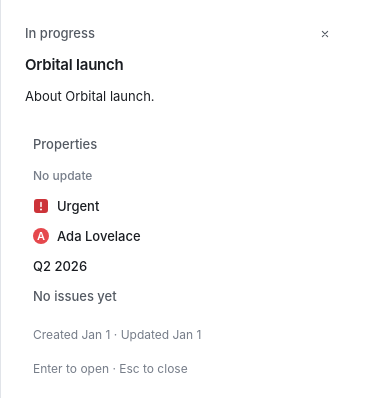
ProjectPeek rail › opens the status picker from the eyebrow without closing the panel
Click the button "In progress": (60, 34) [17, 20, 103, 48]
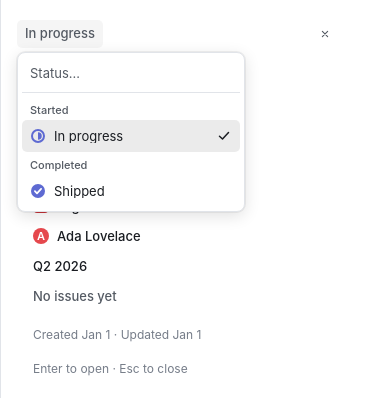
Expected: the menu named "Project status" is shown, [22, 97, 240, 207]
